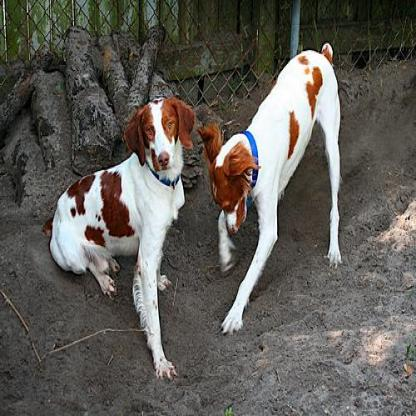Brittany_spaniel: (196, 40, 343, 334), (49, 95, 196, 380)
